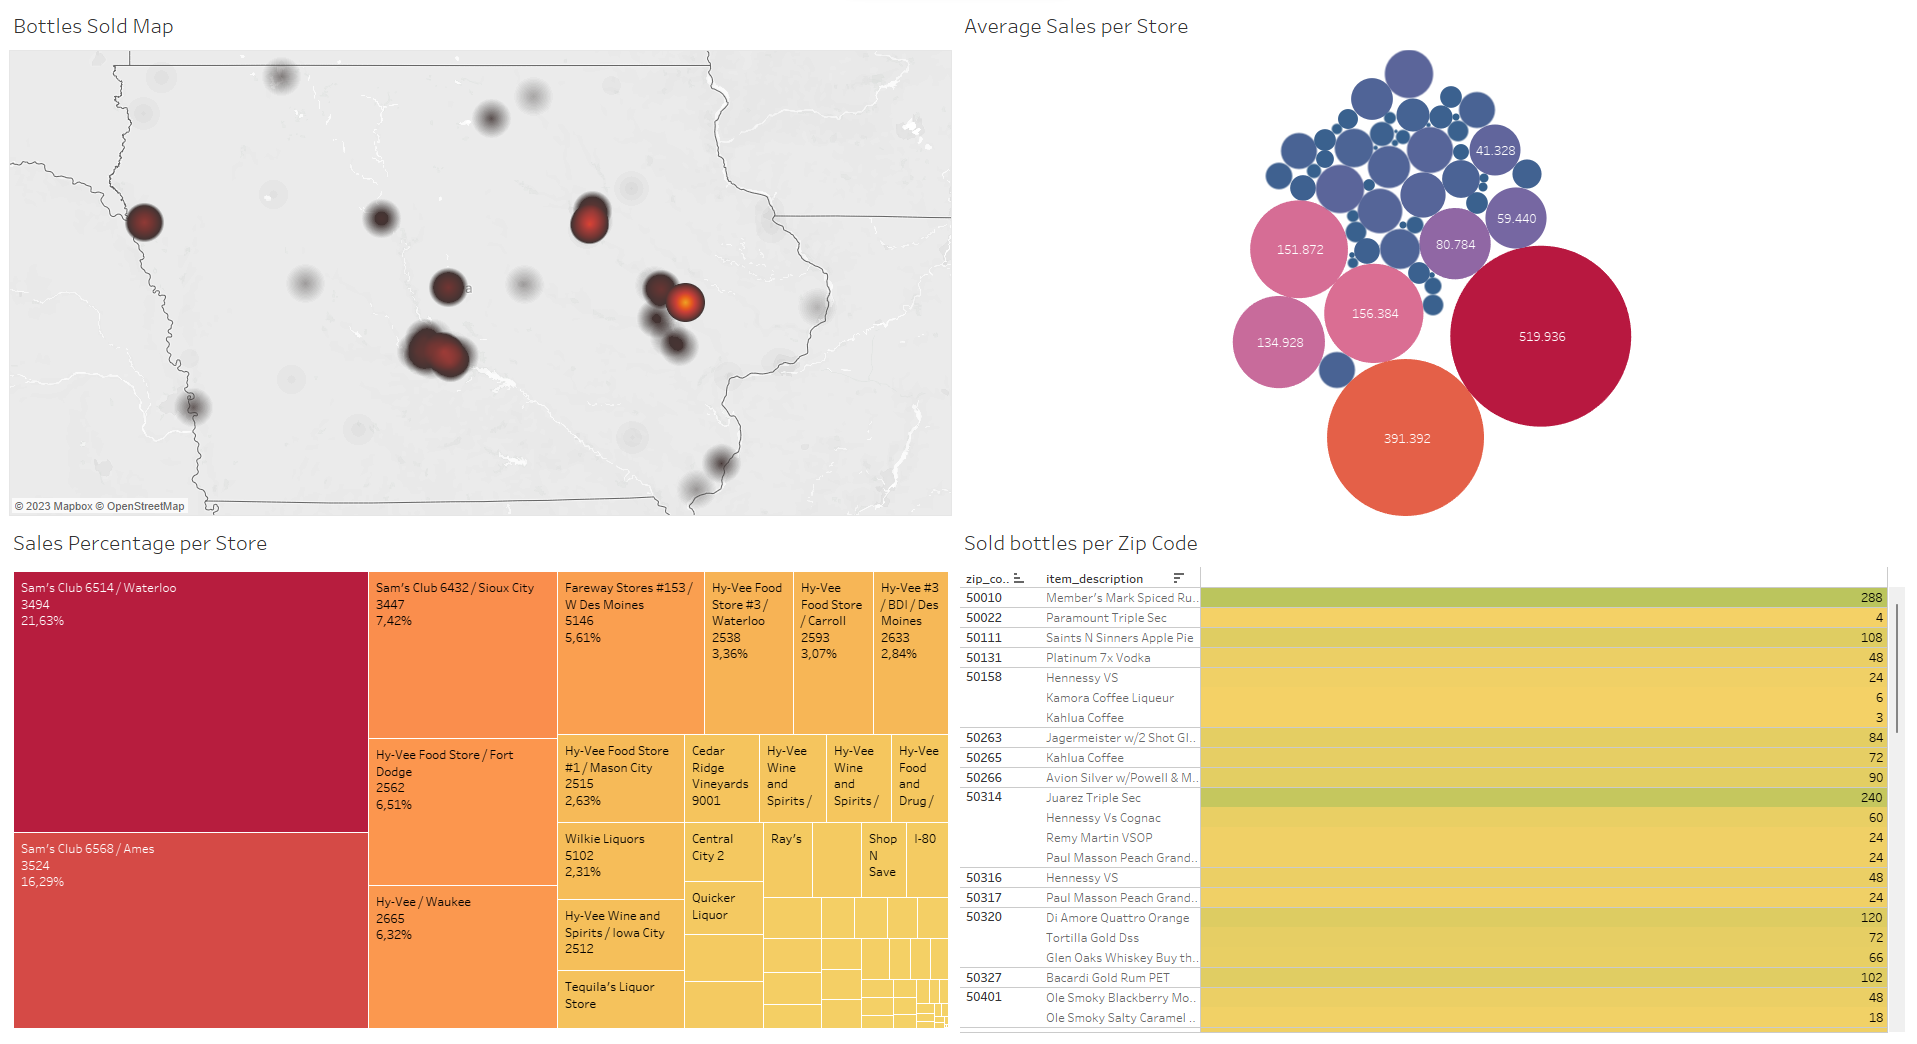

The page's visual inventory and layout, read from the dashboard file:
{"tool":"tableau","page":{"name":"Dashboard 1","canvas":[1000,1000],"units":"permille","ordinal":0},"visuals":[{"type":"worksheet","title":"Bottles Sold Map","mark":"Heatmap","box":[4.7,8.9,495,491.1]},{"type":"worksheet","title":"Average Sales per Store","mark":"Circle","box":[499.7,8.9,495.6,491.1]},{"type":"worksheet","title":"Sales Percentage per Store","mark":"Automatic","box":[4.7,500,495,491.1]},{"type":"worksheet","title":"Sold bottles per Zip Code","mark":"Square","rows":["zip_code","item_description"],"box":[499.7,500,495.6,491.1]}]}

Visuals, with their boxes on the dashboard's canvas, which has no fixed pixel size, in thousandths of its width and height (x1, y1, x2, y2). These are canvas units, not pixel positions in the 1917x1044 screenshot, which may show the page scaled, cropped or inside an application window:
"Bottles Sold Map" worksheet (Heatmap marks): [5,9,500,500]
"Average Sales per Store" worksheet (Circle marks): [500,9,995,500]
"Sales Percentage per Store" worksheet: [5,500,500,991]
"Sold bottles per Zip Code" worksheet (Square marks): [500,500,995,991]
